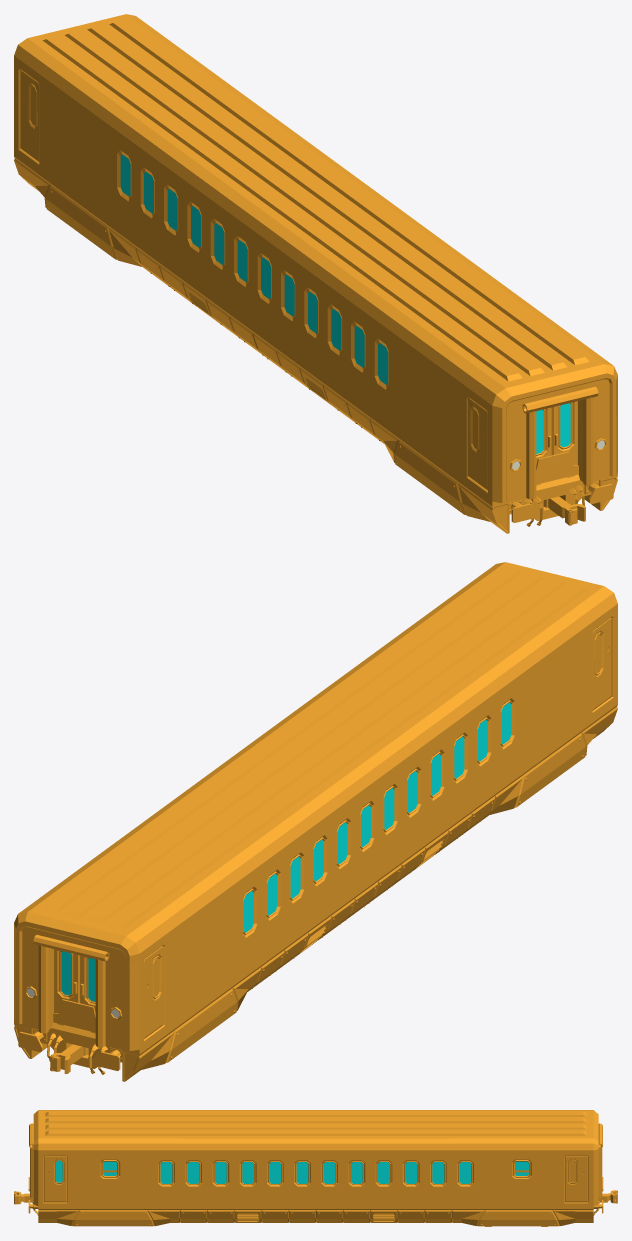
The model's file is SM_Train_Wagon_Sakura.fbx.
The picture shows the model from 3 angles, top to bottom: view 1: azimuth 30°, elevation 25°; view 2: azimuth 150°, elevation 25°; view 3: azimuth 270°, elevation 25°; orthographic projection. The views are drawn at different scales.
Visible parts, largest first — view 1: SM_Train_Wagon_Sakura_Base, SM_Train_Wagon_Sakura_Base_Joint_F; view 2: SM_Train_Wagon_Sakura_Base; view 3: SM_Train_Wagon_Sakura_Base, SM_Train_Wagon_Sakura_Base_Joint_B, SM_Train_Wagon_Sakura_Base_Joint_F.
Part boxes in pixels (x1,y1,x2,y2): SM_Train_Wagon_Sakura_Base: (14,14,617,533); SM_Train_Wagon_Sakura_Base_Joint_F: (543,496,585,525); SM_Train_Wagon_Sakura_Base: (14,562,617,1081); SM_Train_Wagon_Sakura_Base: (28,1110,603,1226); SM_Train_Wagon_Sakura_Base_Joint_B: (598,1190,617,1203); SM_Train_Wagon_Sakura_Base_Joint_F: (14,1191,33,1204).
Bounding box in the file's own units: 3.04 × 3.68 × 21.47.
